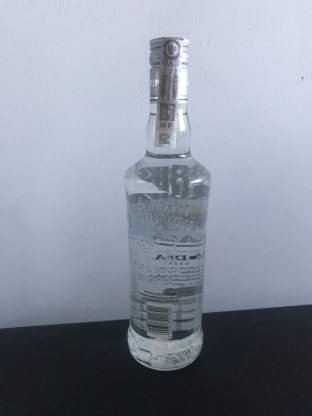nakretka: (146, 32, 192, 106)
